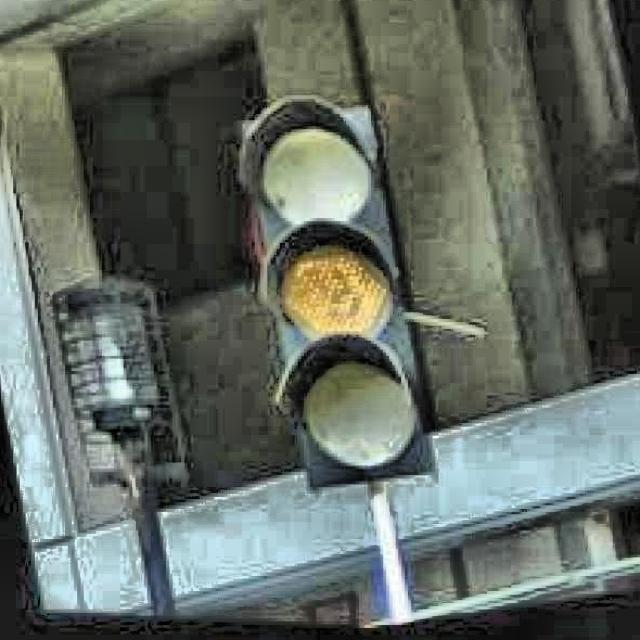yellow: (247, 93, 432, 493)
